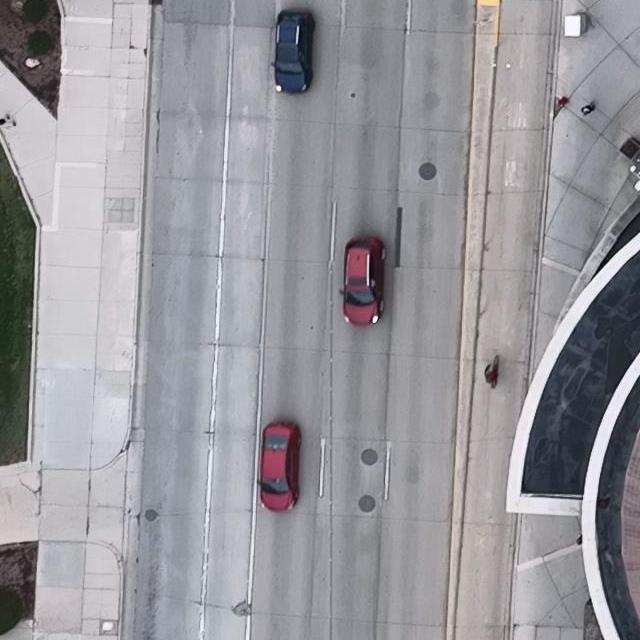car: (339, 236, 387, 328), (257, 419, 301, 510), (271, 9, 314, 94)
